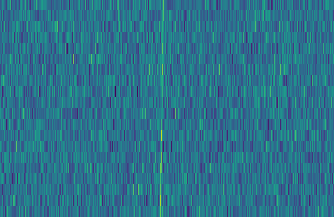signal: (156, 0, 167, 217)
